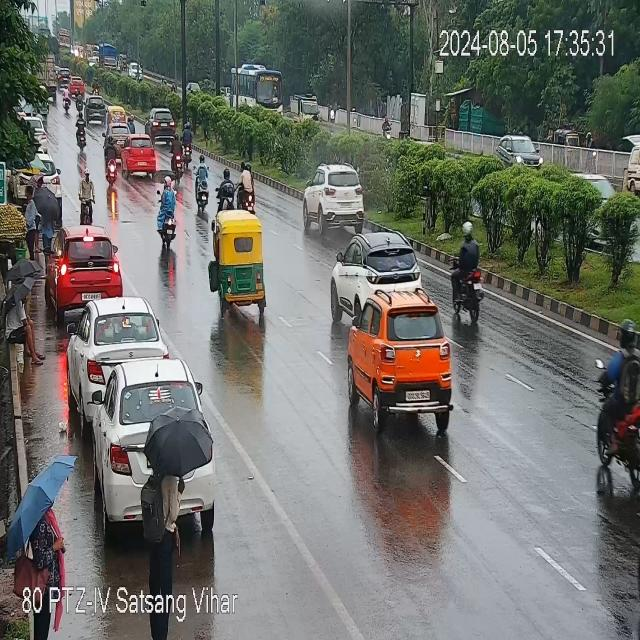2-wheelers: (589, 316, 636, 486), (448, 227, 495, 324), (226, 160, 260, 217), (155, 180, 181, 250), (193, 153, 211, 212), (104, 134, 119, 191), (215, 163, 234, 208), (172, 126, 184, 185), (182, 122, 194, 172), (72, 119, 90, 152), (61, 87, 71, 114), (74, 88, 84, 114), (383, 114, 392, 136), (93, 73, 100, 99), (128, 116, 138, 134)
auto: (205, 212, 268, 316), (108, 105, 128, 126)
bus: (227, 59, 286, 115)
car: (92, 358, 220, 536), (349, 282, 461, 433), (66, 295, 164, 437), (326, 230, 424, 313), (43, 232, 119, 316), (304, 165, 371, 235), (493, 133, 542, 169), (144, 105, 176, 150), (124, 140, 158, 180), (84, 95, 111, 124), (56, 66, 74, 95), (70, 70, 85, 102), (107, 125, 133, 142), (129, 61, 144, 82)
pedestrian: (141, 416, 212, 589), (4, 451, 82, 585), (2, 281, 48, 368), (23, 173, 62, 260)
